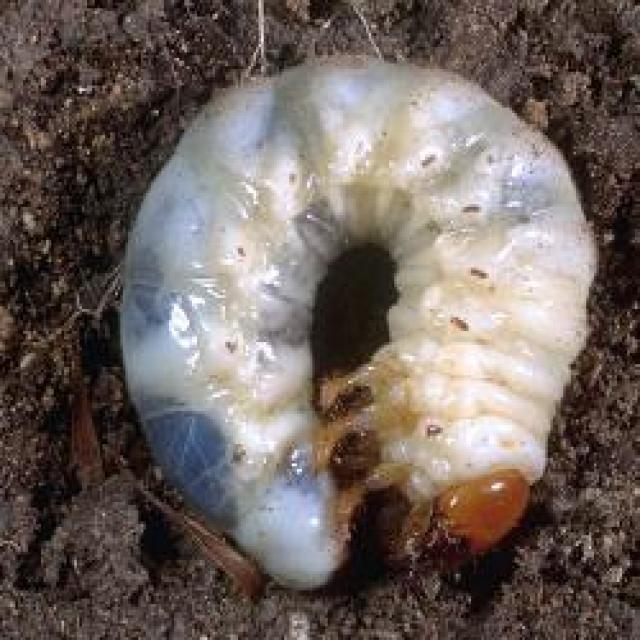Grub-Adult-: (107, 34, 615, 593)
